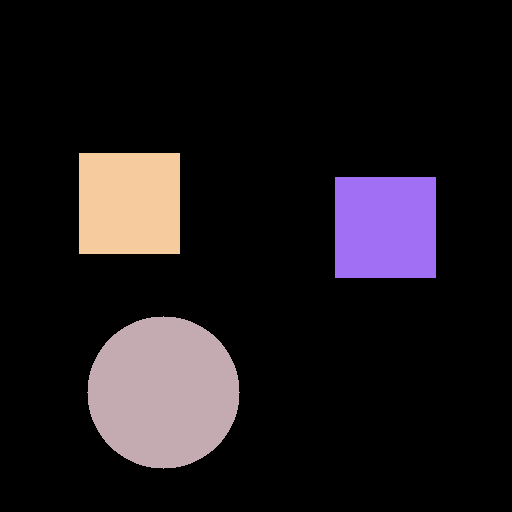circle: (87, 316, 239, 468)
square: (335, 177, 435, 277), (79, 153, 179, 253)
